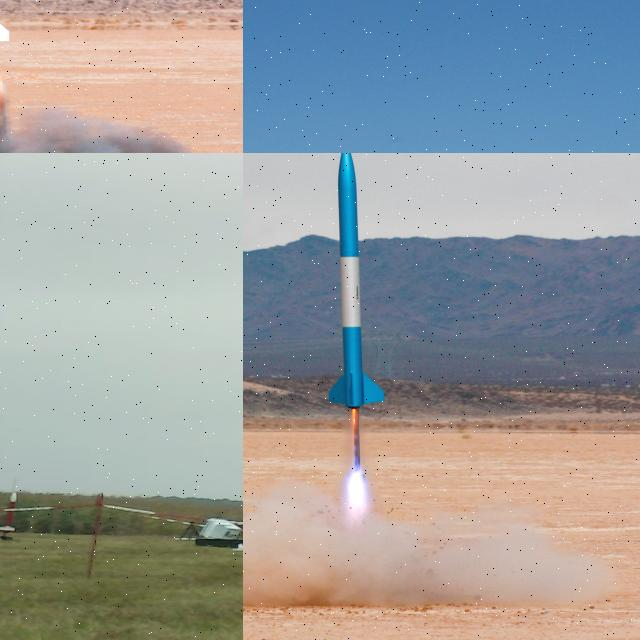Rocket: (326, 153, 387, 410), (0, 491, 18, 531)
